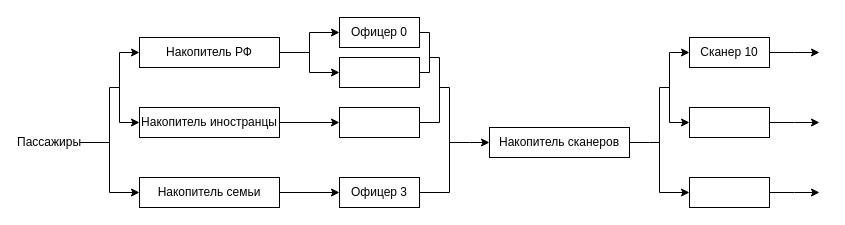
This 845x225 diagram has some shape labels left out. Each missing label, with the centre of its shape:
Офицер 1: [379,72]
Офицер 2: [379,122]
Сканер 11: [729,122]
Сканер 12: [729,192]
